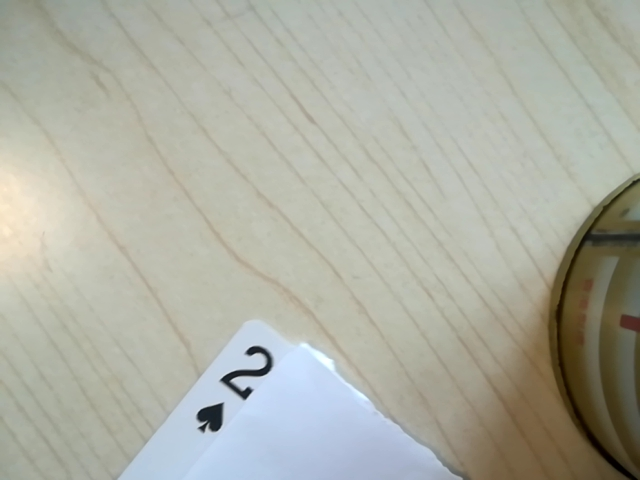ht 2: (181, 339, 292, 438)
